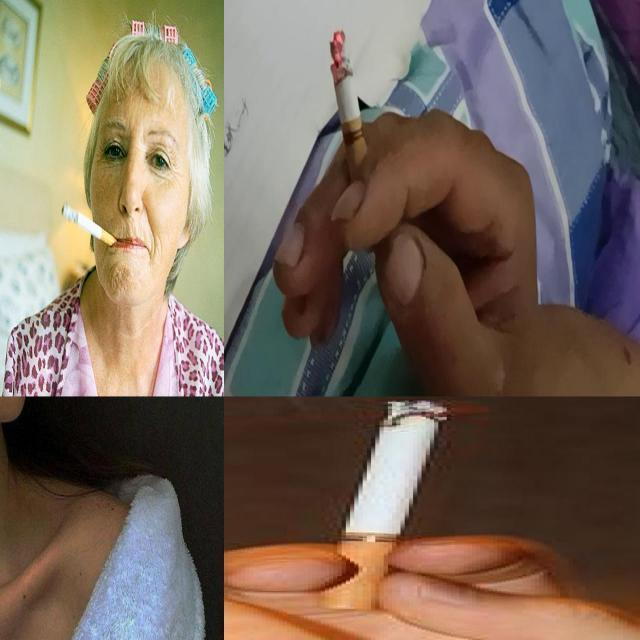smoke: (318, 398, 450, 611), (330, 27, 377, 215), (60, 198, 119, 252)
